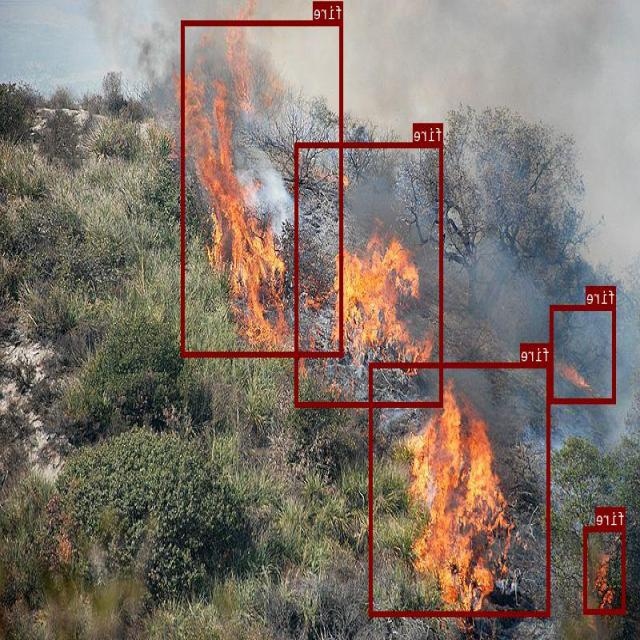fire: (182, 19, 344, 356), (370, 362, 551, 616), (296, 142, 444, 406), (550, 304, 616, 403), (584, 526, 626, 613)
